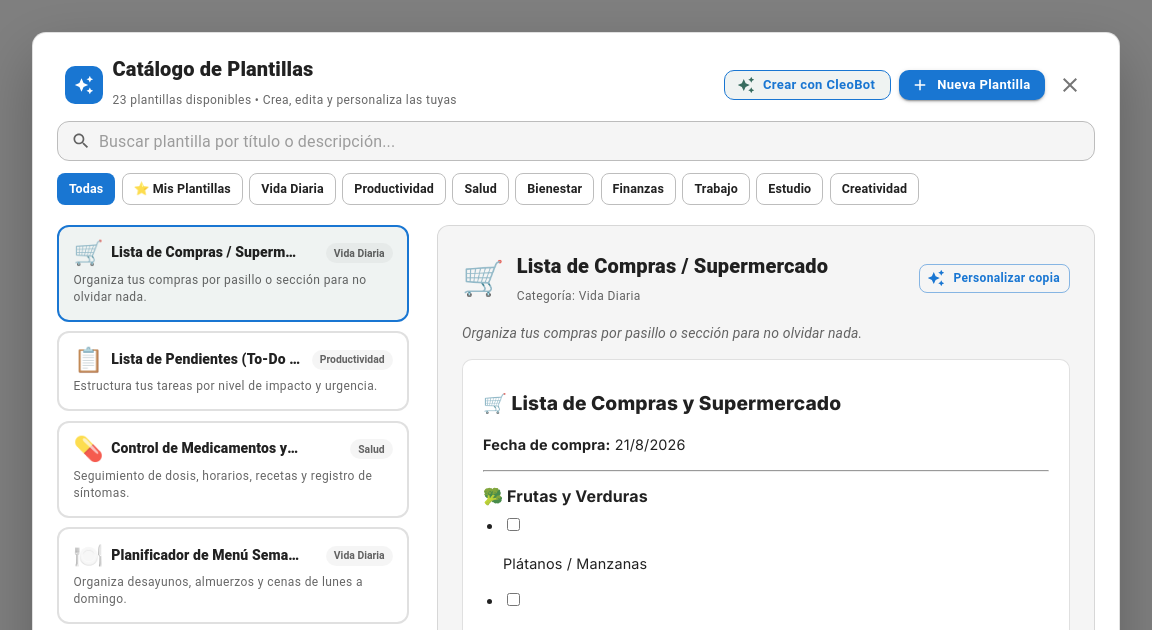
Test: NoteTemplatesDialog › abre el diálogo para crear una nueva plantilla personalizada
Click the button "Nueva Plantilla".
click(972, 85)  # box [899,70,1045,100]
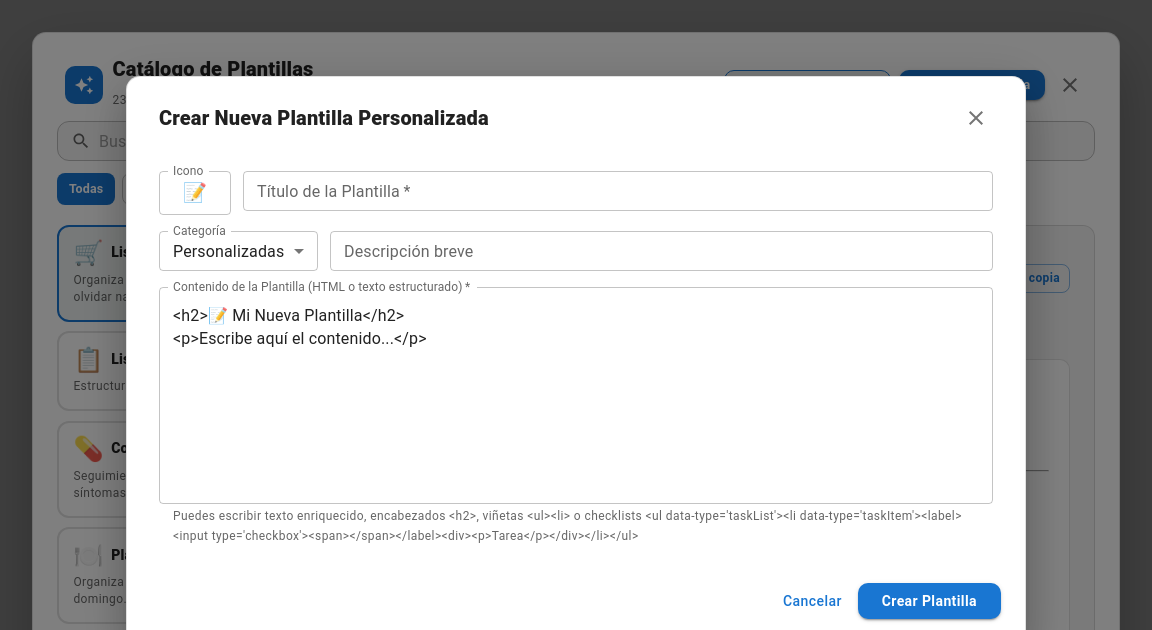
Expected: the text "Crear Nueva Plantilla Personalizada" is shown, [159,102,489,134]
Expected: the field with placeholder "Ej: Mi Rutina de Mañana..." is shown, [243,170,993,210]
